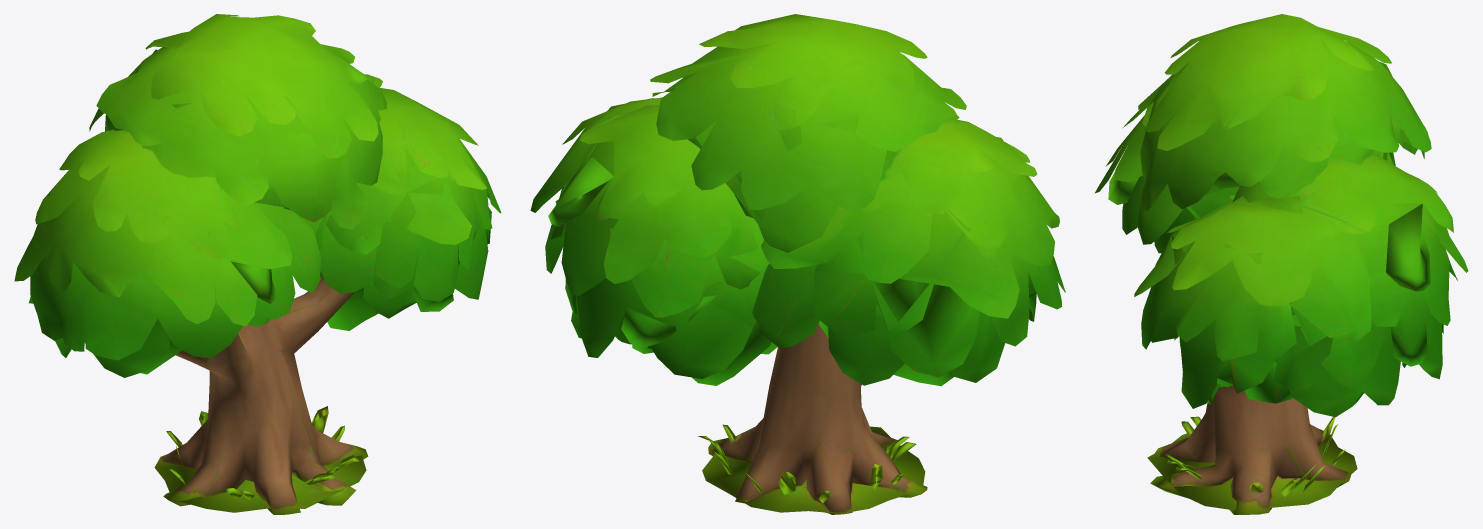
The model's file is tree-broadleaf.glb.
3 views of the same model, side by side, from view 1: azimuth 30°, elevation 25°; view 2: azimuth 150°, elevation 25°; view 3: azimuth 270°, elevation 25° (orthographic). The views are drawn at different scales.
Bounding box in the file's own units: 0.998 × 0.9512 × 0.7344.
Materials: 1 (1 with a texture image).
